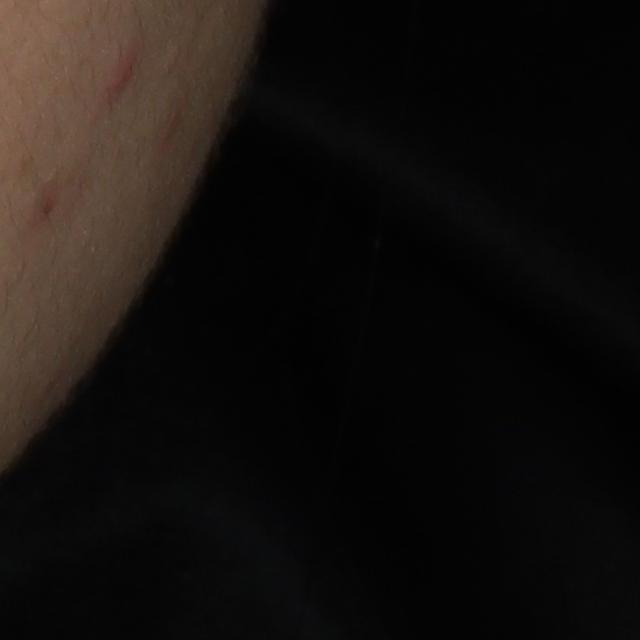papule: (102, 55, 138, 98)
